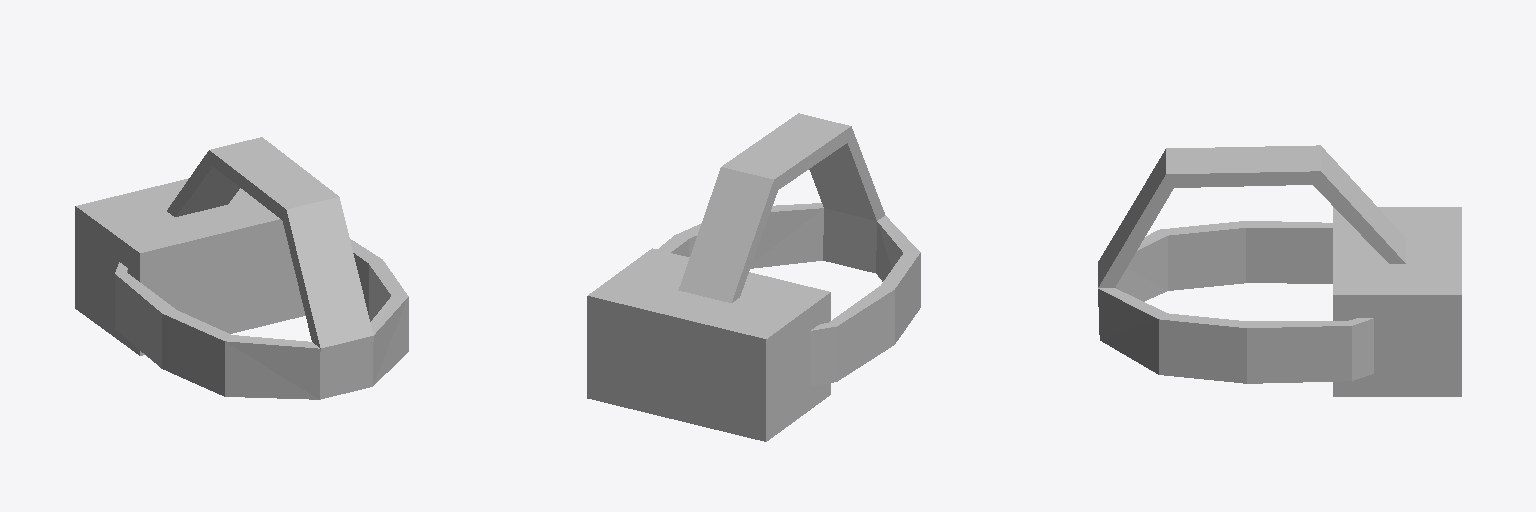
File: VRHMD.obj
The picture shows the model from 3 angles: view 1: azimuth 30°, elevation 25°; view 2: azimuth 150°, elevation 25°; view 3: azimuth 270°, elevation 25°; orthographic projection.
Parts seen in each view (by area): view 1: Cube; view 2: Cube; view 3: Cube.
Boxes of the visible parts, <box> form: Cube: <box>75,137,408,399</box>; Cube: <box>587,113,920,441</box>; Cube: <box>1098,145,1461,396</box>.
Bounding box in the file's own units: 0.2355 × 0.199 × 0.3365.